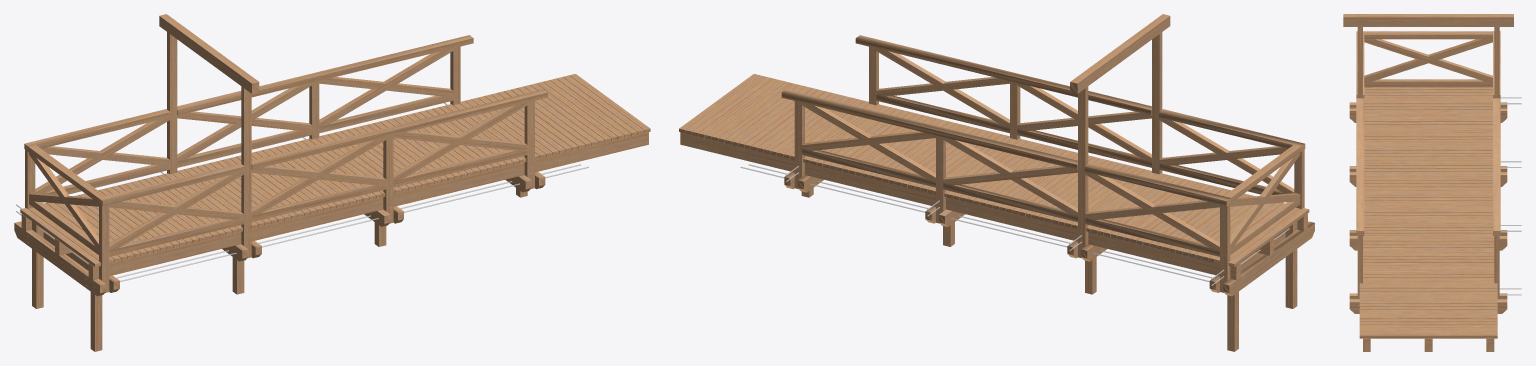
The model's file is molo_hotel.glb.
The picture shows the model from 3 angles, left to right: view 1: azimuth 30°, elevation 25°; view 2: azimuth 150°, elevation 25°; view 3: azimuth 270°, elevation 25°; orthographic projection. The views are drawn at different scales.
Parts seen in each view (by area): view 1: Object_2, Object_10, Object_16, Object_3, Object_6, Object_7, Object_5, Object_9, Object_13, Object_15; view 2: Object_2, Object_10, Object_16, Object_3, Object_6, Object_7, Object_9, Object_5, Object_15, Object_13; view 3: Object_2, Object_9, Object_10, Object_15, Object_3, Object_16, Object_6, Object_7, Object_4, Object_14.
Boxes of the visible parts, x1,y1,x2,y2 form: Object_2: [20, 74, 649, 266]; Object_10: [24, 35, 547, 256]; Object_16: [29, 48, 527, 250]; Object_3: [14, 132, 648, 295]; Object_6: [25, 32, 393, 292]; Object_7: [32, 46, 534, 351]; Object_5: [28, 128, 650, 296]; Object_9: [28, 14, 258, 202]; Object_13: [20, 164, 588, 287]; Object_15: [29, 193, 98, 254]; Object_2: [679, 74, 1309, 266]; Object_10: [781, 35, 1304, 256]; Object_16: [802, 48, 1300, 250]; Object_3: [680, 132, 1314, 296]; Object_6: [936, 32, 1304, 292]; Object_7: [794, 46, 1297, 351]; Object_9: [1070, 14, 1300, 202]; Object_5: [679, 128, 1309, 296]; Object_15: [1230, 153, 1300, 254]; Object_13: [740, 164, 1309, 285]; Object_2: [1359, 87, 1497, 338]; Object_9: [1343, 14, 1513, 39]; Object_10: [1356, 31, 1500, 230]; Object_15: [1364, 39, 1492, 87]; Object_3: [1349, 102, 1507, 338]; Object_16: [1364, 39, 1492, 81]; Object_6: [1357, 27, 1499, 98]; Object_7: [1357, 236, 1499, 299]; Object_4: [1363, 339, 1494, 351]; Object_14: [1499, 97, 1521, 295].
Size of the model in its own units: 9 by 3.78 by 2.72.
9 materials, 8 textured.
